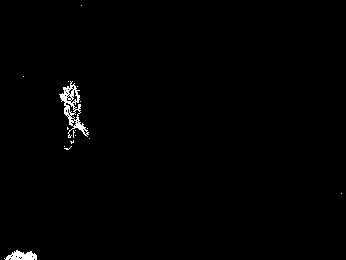person: (56, 79, 92, 153)
